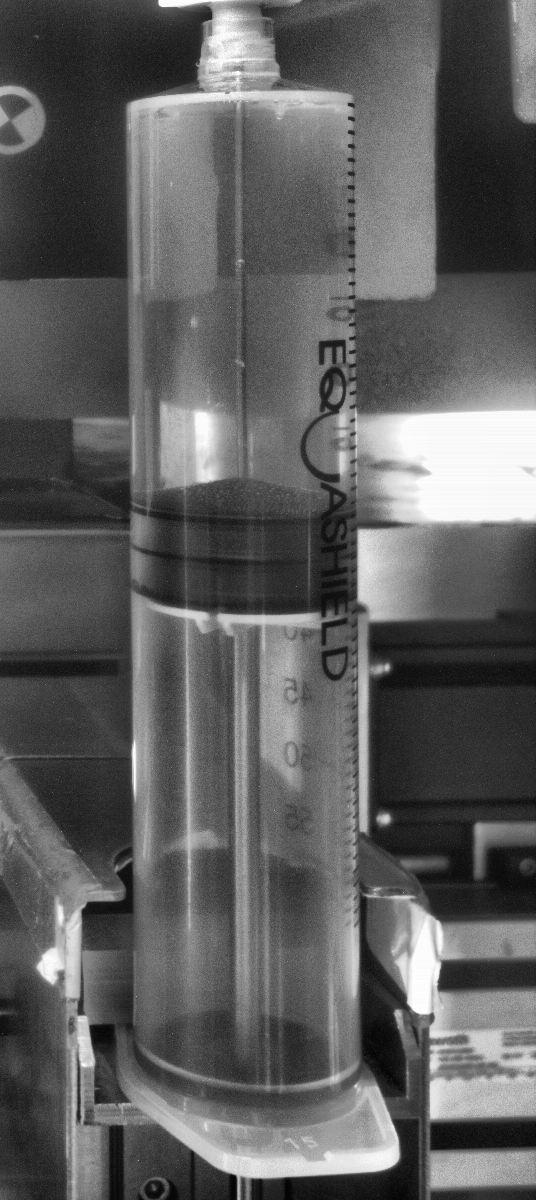piston: (130, 509, 359, 640)
